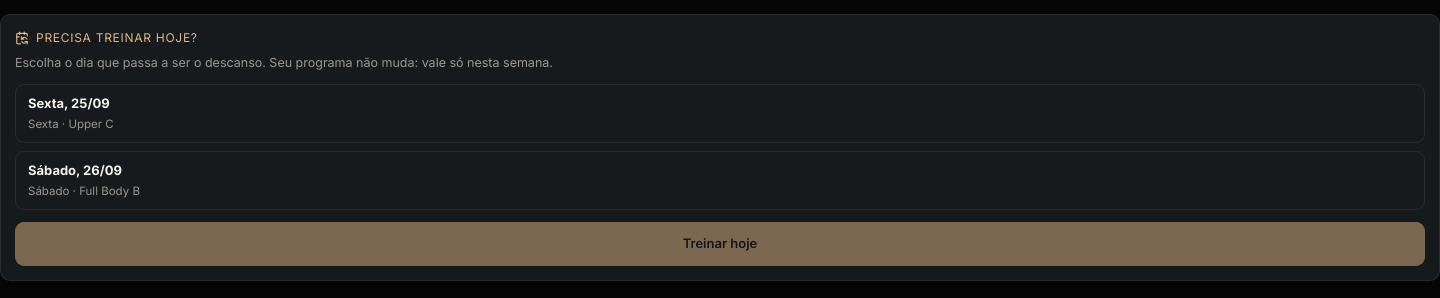
Test: não dá para confirmar sem escolher o dia
This screenshot has width=1440, height=298.
Expected: the button with test id "trocar-dia-confirmar" is disabled, x1=15 y1=222 x2=1425 y2=266
Click the radio button with test id "trocar-dia-opcao-2026-09-26" at (75, 170), box x1=15 y1=151 x2=1425 y2=210
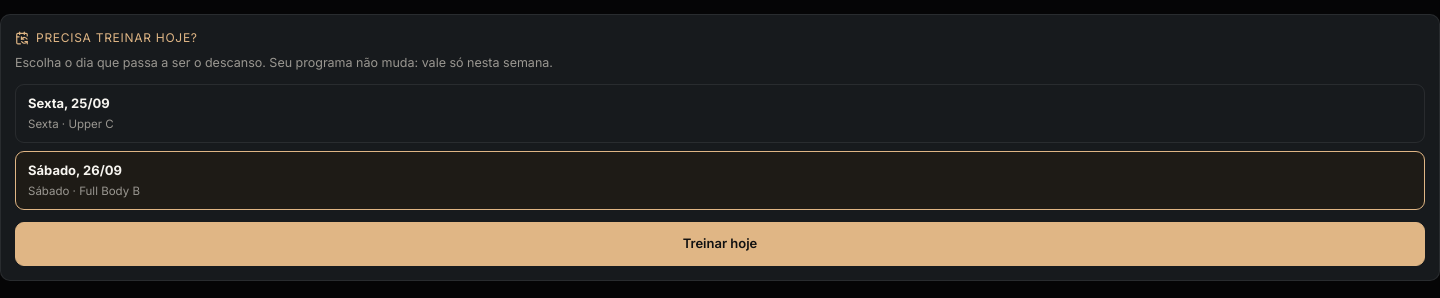
Result: the button with test id "trocar-dia-confirmar" is enabled at x1=15 y1=222 x2=1425 y2=266
